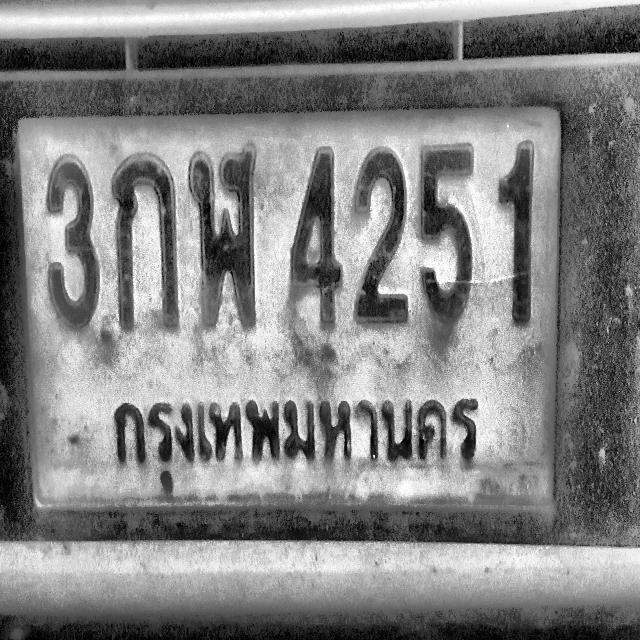license-plate: (0, 56, 583, 544)
